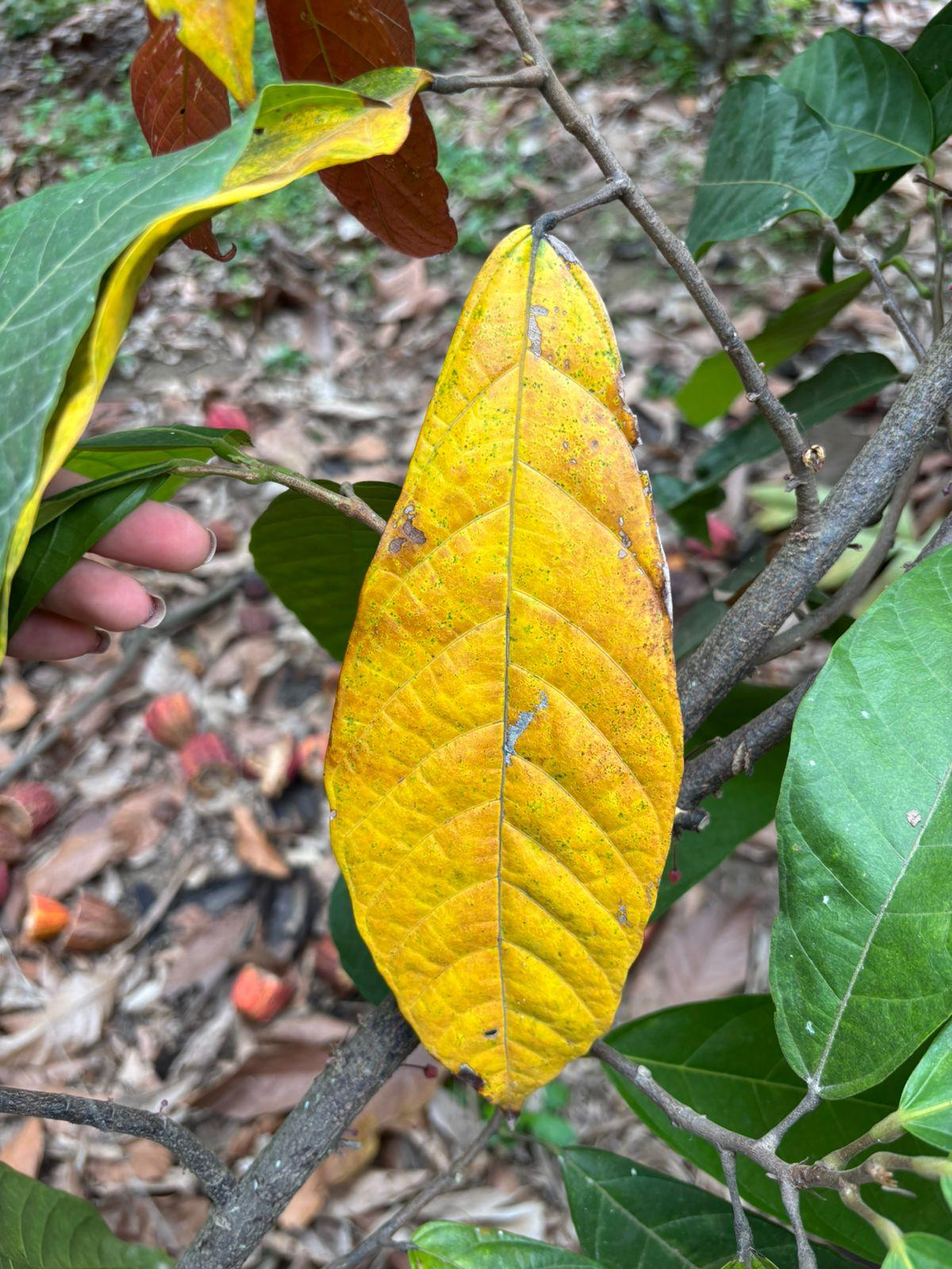deficienciia_fosforo: (325, 227, 681, 1108)
